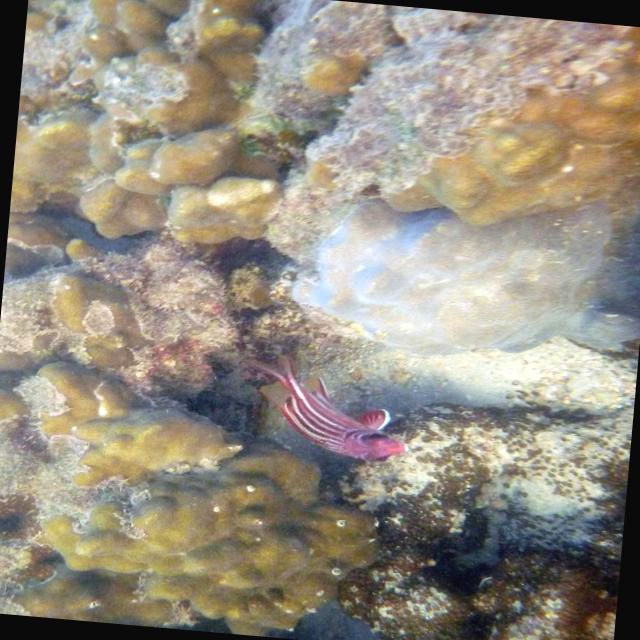Asker Baligi: (210, 337, 426, 475)
